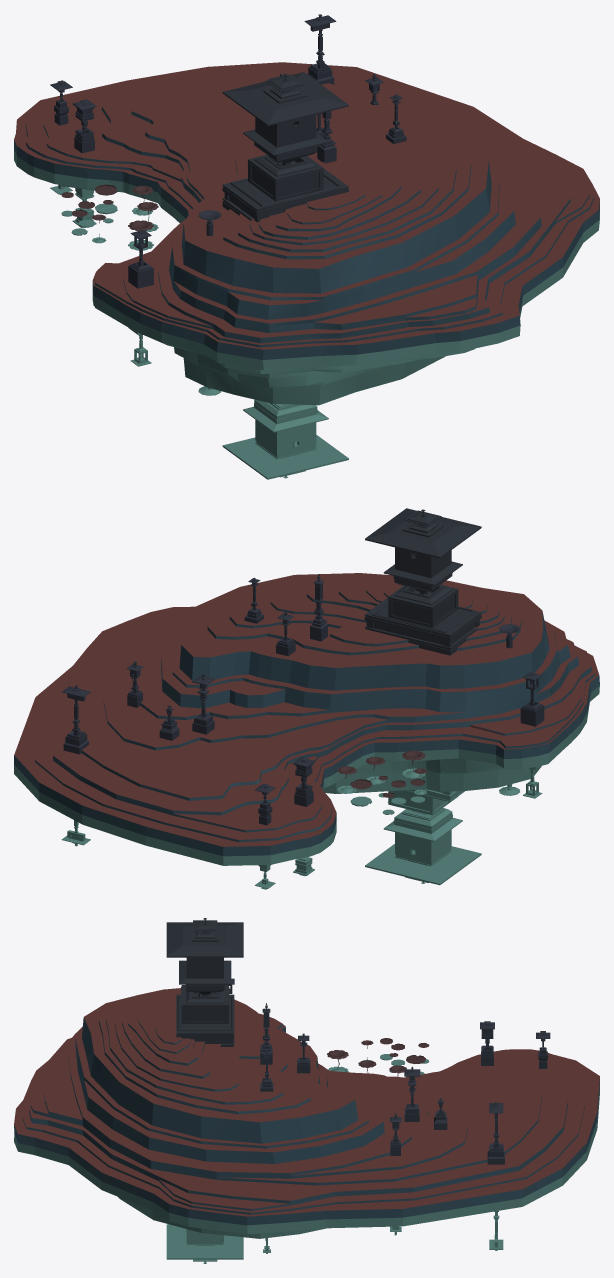
File: Ile_Jap.obj
3 views of the same model, one above another, from view 1: azimuth 30°, elevation 25°; view 2: azimuth 150°, elevation 25°; view 3: azimuth 270°, elevation 25° (orthographic). The views are drawn at different scales.
Visible parts, largest first — view 1: ILE_ETAGES, ILE_STRATS, Reflet, CORPS_TEMPLE, SOCLE_TEMPLE; view 2: ILE_ETAGES, ILE_STRATS, Reflet, CORPS_TEMPLE, SOCLE_TEMPLE, CORPS_ORGUE_05, SOCLE_ORGUE_05; view 3: ILE_ETAGES, ILE_STRATS, Reflet, CORPS_TEMPLE, SOCLE_TEMPLE.
Boxes of the visible parts, x1,y1,x2,y2 form: ILE_ETAGES: (14, 62, 599, 349); ILE_STRATS: (14, 107, 599, 359); Reflet: (14, 150, 599, 479); CORPS_TEMPLE: (222, 72, 348, 165); SOCLE_TEMPLE: (222, 155, 348, 222); ILE_ETAGES: (14, 573, 599, 846); ILE_STRATS: (14, 590, 599, 856); Reflet: (14, 685, 599, 889); CORPS_TEMPLE: (365, 508, 481, 594); SOCLE_TEMPLE: (364, 584, 481, 655); CORPS_ORGUE_05: (127, 672, 542, 707); SOCLE_ORGUE_05: (520, 701, 544, 726); ILE_ETAGES: (14, 988, 599, 1216); ILE_STRATS: (14, 1017, 599, 1225); Reflet: (14, 1054, 599, 1263); CORPS_TEMPLE: (166, 918, 243, 996); SOCLE_TEMPLE: (176, 985, 234, 1046).
Bounding box in the file's own units: 56 × 44.46 × 68.28.
